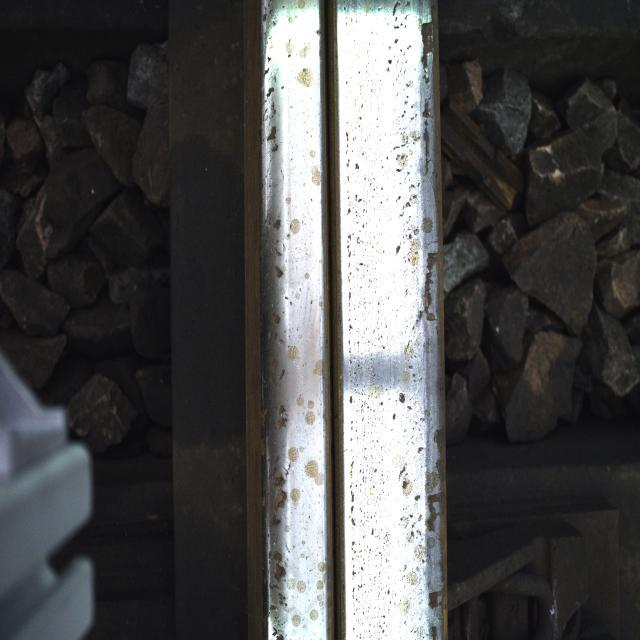scar: (368, 9, 438, 630), (264, 65, 328, 586)
